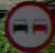No overtake: (2, 0, 51, 48)
